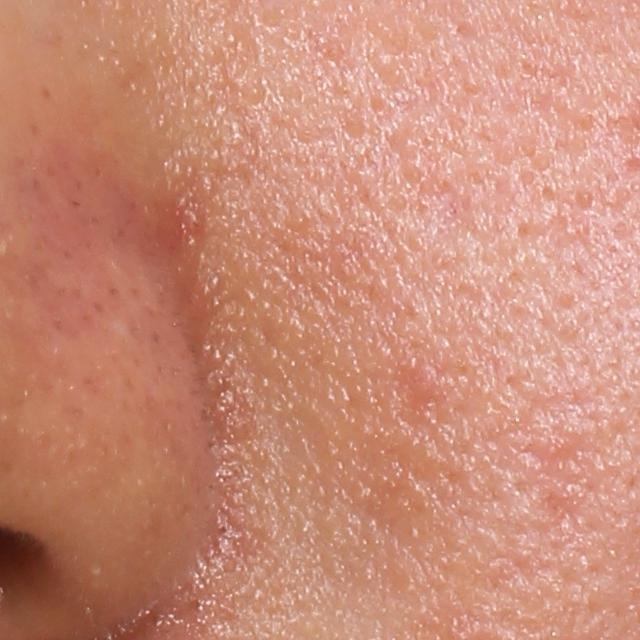comedo: (568, 187, 595, 211), (246, 83, 267, 104)
